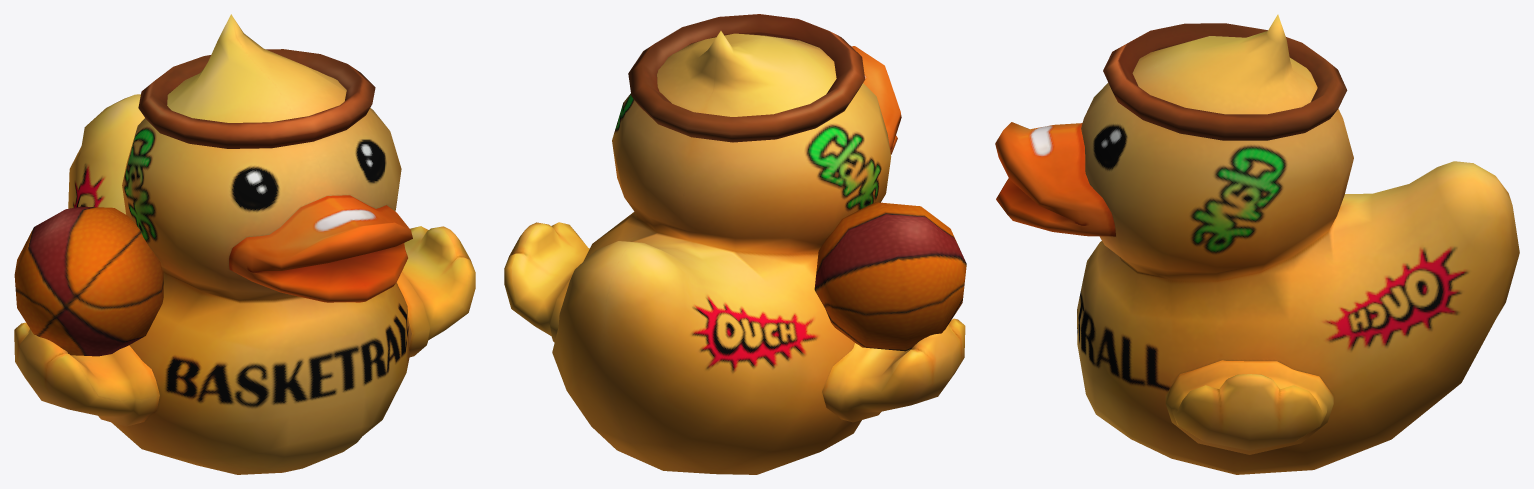
File: article1_06.FBX
The picture shows the model from 3 angles, left to right: view 1: azimuth 30°, elevation 25°; view 2: azimuth 150°, elevation 25°; view 3: azimuth 270°, elevation 25°; orthographic projection. The views are drawn at different scales.
Visible parts, largest first — view 1: article1_06; view 2: article1_06; view 3: article1_06.
Boxes of the visible parts, <box> form: article1_06: <box>14,14,475,474</box>; article1_06: <box>504,14,966,474</box>; article1_06: <box>995,14,1519,474</box>.
Bounding box in the file's own units: 312 × 292 × 315.
